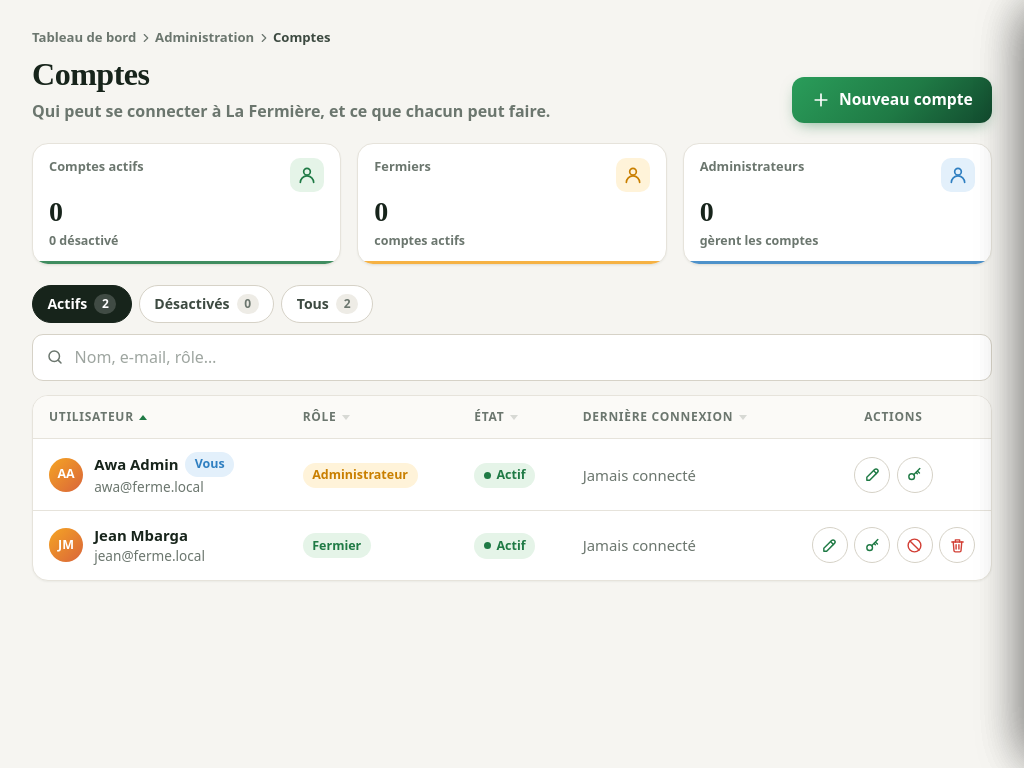
Test: gestion des comptes › création : envoie le compte puis affiche les identifiants à transmettre
This screenshot has width=1024, height=768.
Click the button "Nouveau compte": (892, 100) [792,77,992,123]
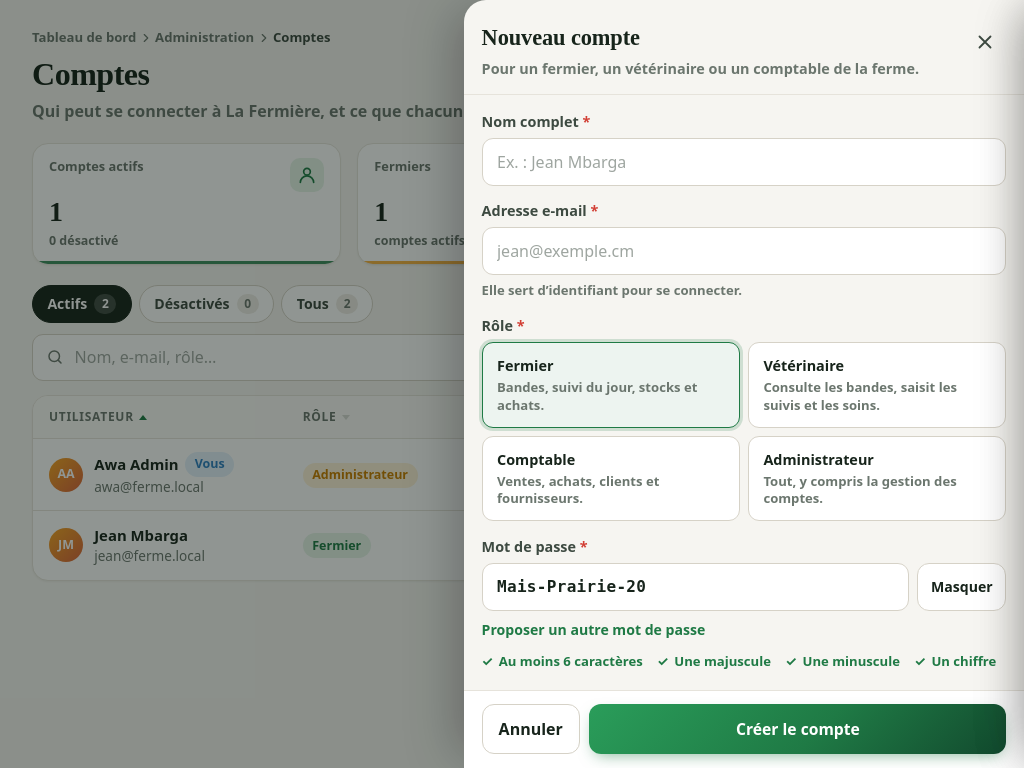
In the field with placeholder "Ex. : Jean Mbarga": (744, 162) [482,138,1006,186], type "Paul Essomba"
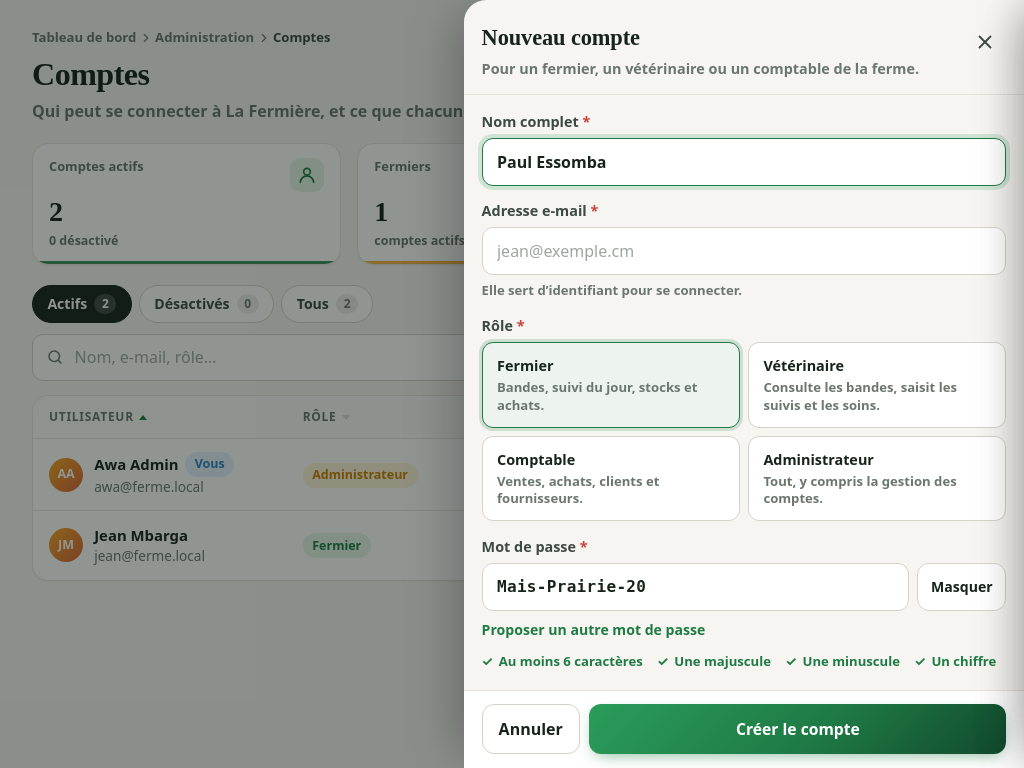
In the field with placeholder "jean@exemple.cm": (744, 251) [482,227,1006,275], type "paul@ferme.local"
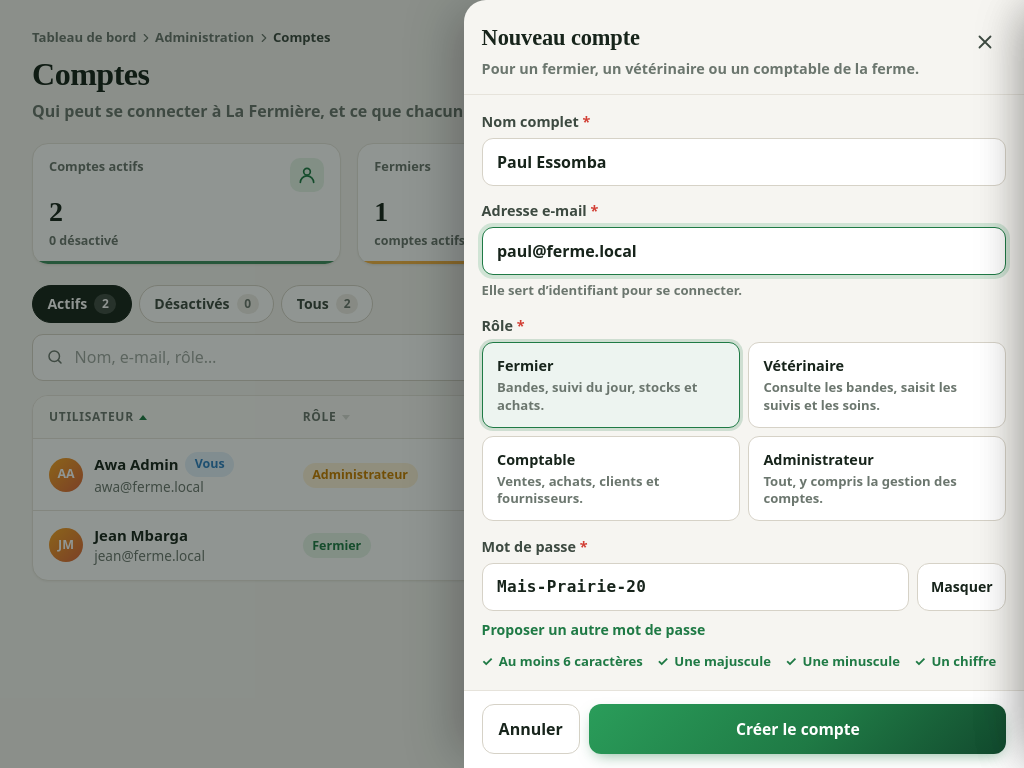
Click the radio button labelled "Vétérinaire": (877, 385) [748,342,1006,428]
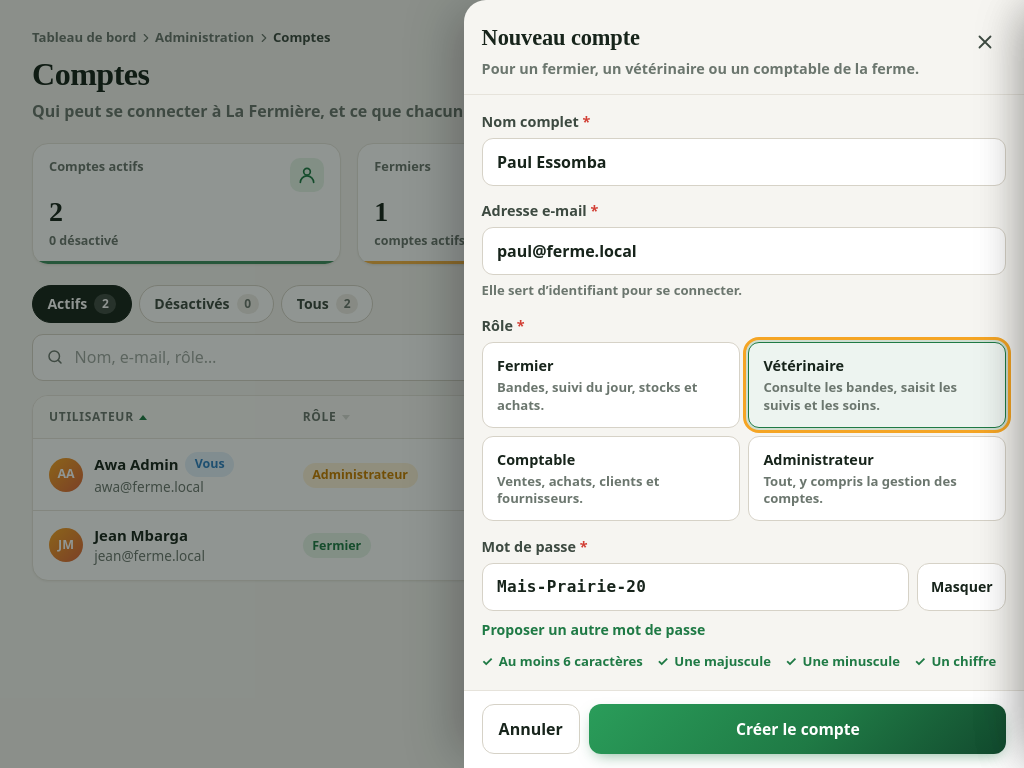
Click the button "Créer le compte": (798, 729) [589,704,1006,754]
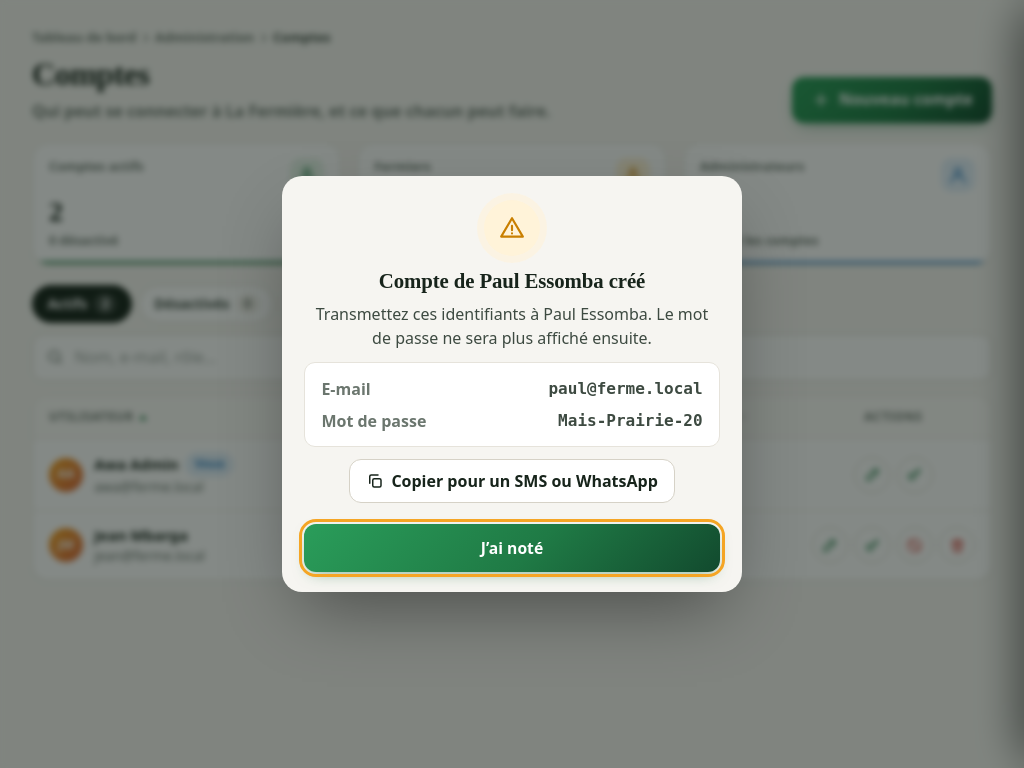
Now the text "paul@ferme.local" is shown, box [548,377,703,401]
